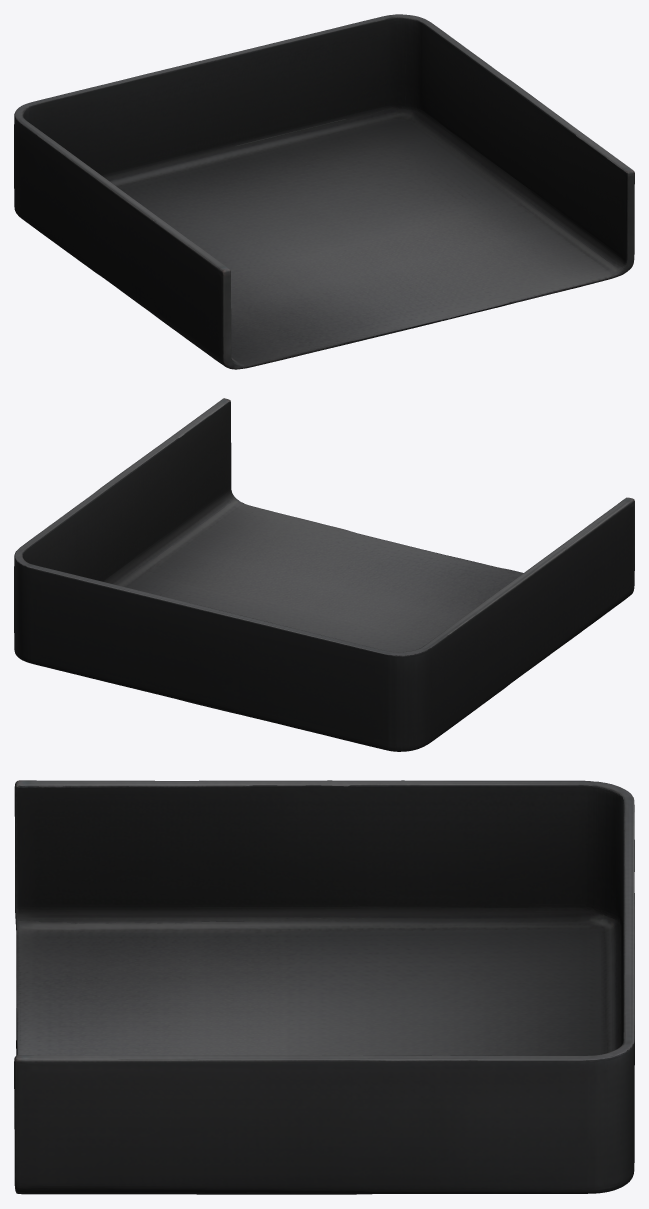
File: new_tray.glb
3 renders of one model, top to bottom at view 1: azimuth 30°, elevation 25°; view 2: azimuth 150°, elevation 25°; view 3: azimuth 270°, elevation 25°, orthographic. The views are drawn at different scales.
Visible parts, largest first — view 1: world; view 2: world; view 3: world.
Part boxes in pixels (bbox=[...]): world: bbox=[14, 14, 634, 369]; world: bbox=[14, 398, 634, 751]; world: bbox=[14, 780, 634, 1194].
Bounding box in the file's own units: 0.9947 × 0.2416 × 0.9308.
Materials: 1 (1 with a texture image).
